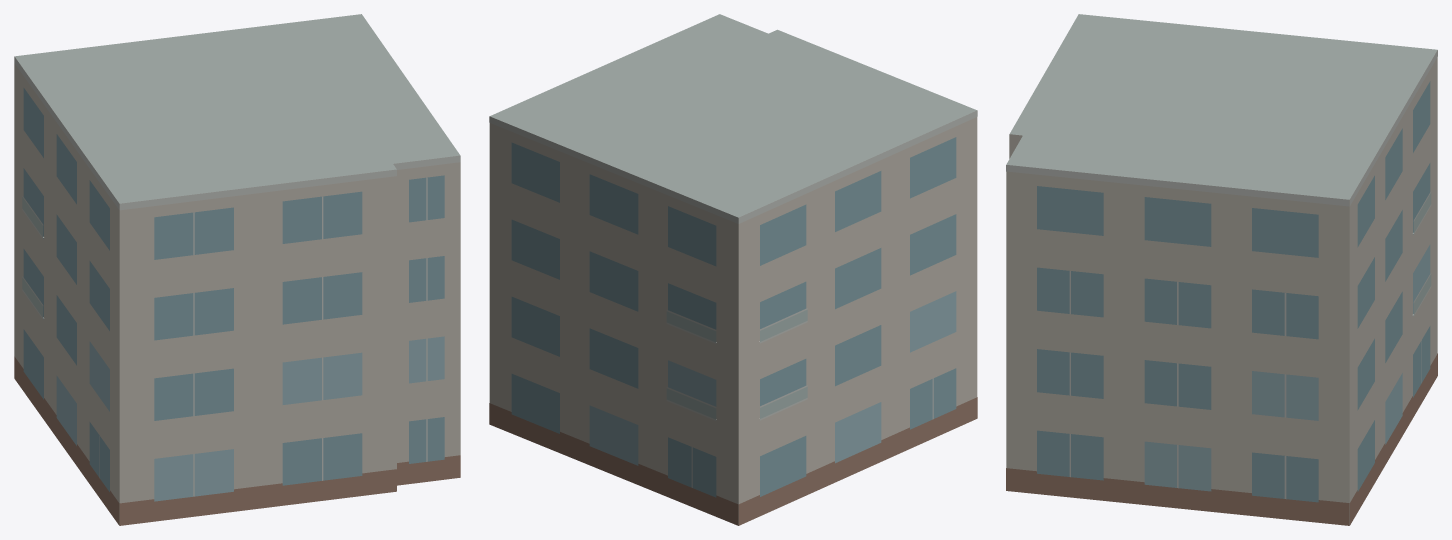
The model's file is survey-upis-32828601.glb.
3 views of the same model, side by side, from view 1: azimuth 30°, elevation 25°; view 2: azimuth 150°, elevation 25°; view 3: azimuth 270°, elevation 25° (orthographic). The views are drawn at different scales.
Parts seen in each view (by area): view 1: survey-upis-32828601.tmp; view 2: survey-upis-32828601.tmp; view 3: survey-upis-32828601.tmp.
Part boxes in pixels (x1=…): survey-upis-32828601.tmp: x1=14, y1=14, x2=460, y2=525; survey-upis-32828601.tmp: x1=489, y1=14, x2=977, y2=525; survey-upis-32828601.tmp: x1=1006, y1=14, x2=1437, y2=525.
Size of the model in its own units: 14.43 by 11.8 by 14.17.
